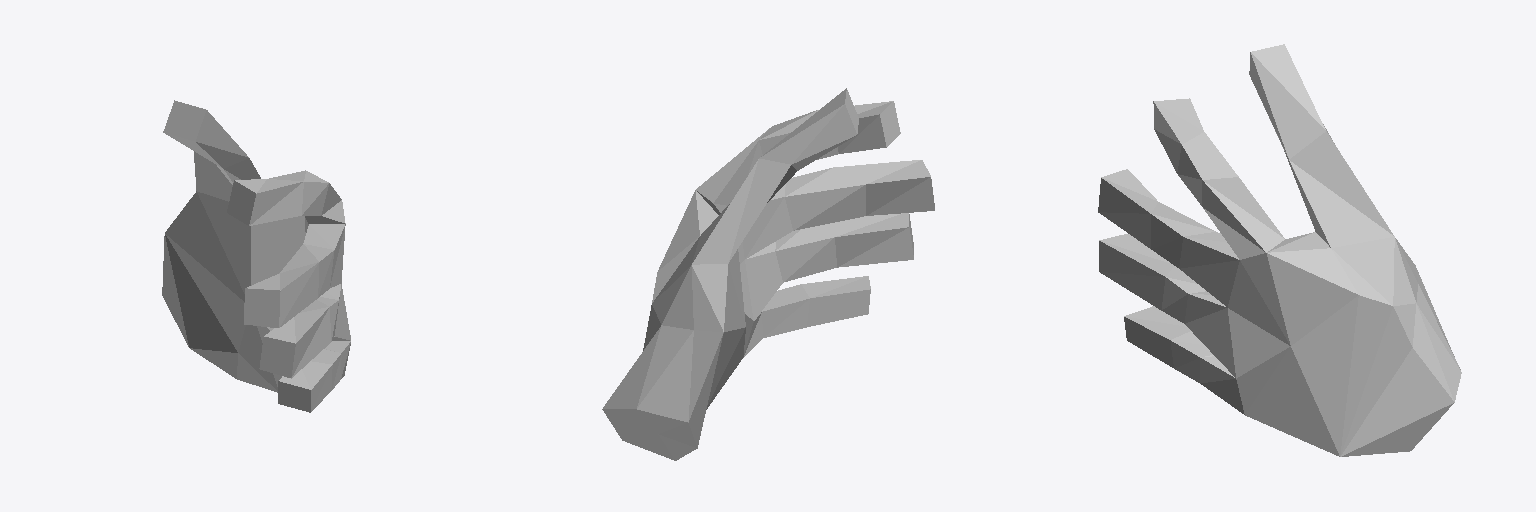
Rendered from ClarinetLeftHand13.obj.
3 views of the same model, side by side, from view 1: azimuth 30°, elevation 25°; view 2: azimuth 150°, elevation 25°; view 3: azimuth 270°, elevation 25° (orthographic).
Parts seen in each view (by area): view 1: ClarinetLeftHand13_RecorderHandLeft0.001; view 2: ClarinetLeftHand13_RecorderHandLeft0.001; view 3: ClarinetLeftHand13_RecorderHandLeft0.001.
Boxes of the visible parts, x1,y1,x2,y2 form: ClarinetLeftHand13_RecorderHandLeft0.001: [162, 100, 350, 412]; ClarinetLeftHand13_RecorderHandLeft0.001: [602, 88, 934, 460]; ClarinetLeftHand13_RecorderHandLeft0.001: [1098, 44, 1461, 456].
Bounding box in the file's own units: 3.02 × 5.49 × 5.23.